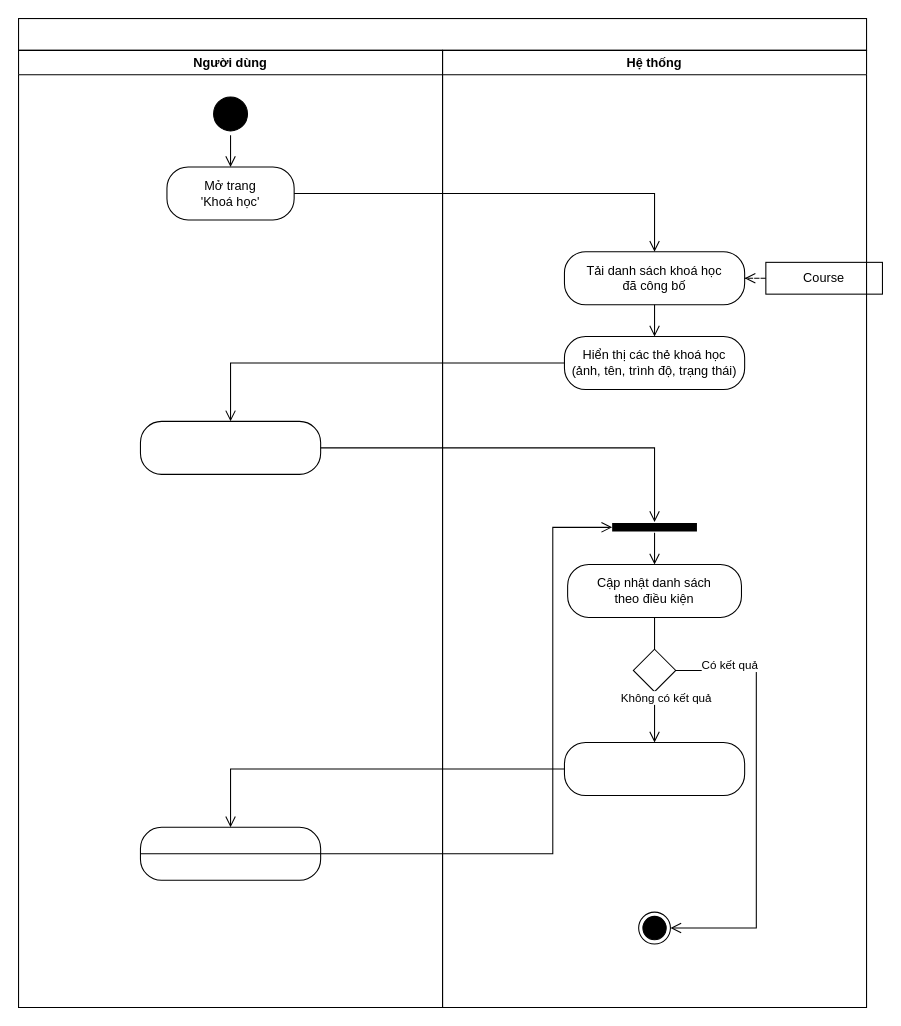
This 901x1026 diagram has some shape labels left out. The shapes that lost their labels are listed below. From the top down, each one's centre as x and y in pixels, then its label:
point (442, 33): XEM DANH SÁCH KHOÁ HỌC
point (230, 447): (Tuỳ chọn) Tìm kiếm hoặc lọc theo danh mục/trình độ
point (654, 768): Hiển thị: Không tìm thấy khoá học phù hợp
point (230, 853): (Tuỳ chọn) Xoá bộ lọc để xem lại toàn bộ
